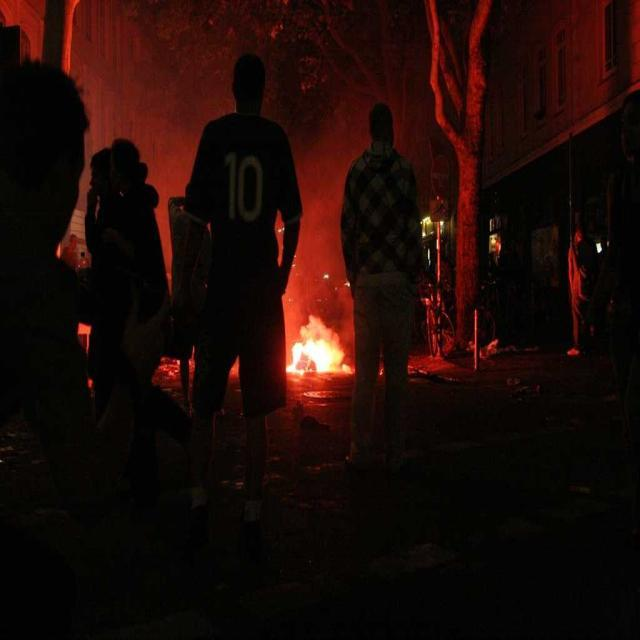Fire: (284, 312, 350, 386)
